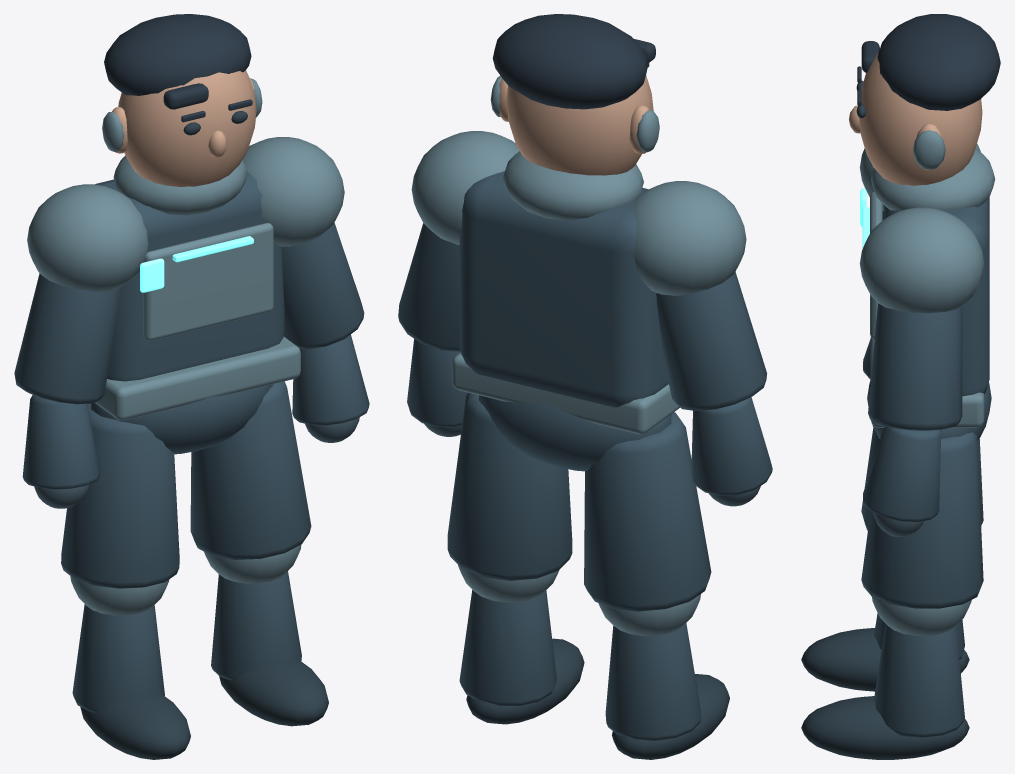
Rendered from AgentStanding.fbx.
3 views of the same model, side by side, from view 1: azimuth 30°, elevation 25°; view 2: azimuth 150°, elevation 25°; view 3: azimuth 270°, elevation 25° (orthographic). The views are drawn at different scales.
Visible parts, largest first — view 1: Coxa L.001, Coxa R.001, Jaqueta facetada.001, Placa toracica.001, Cabeca.001, Ombreira L.001, Braco L.001, Cabelo superior.001, Ombreira R.001, Canela L.001, Braco R.001, Canela R.001 (+15 smaller); view 2: Jaqueta facetada.001, Coxa L.001, Coxa R.001, Cabelo superior.001, Braco L.001, Ombreira L.001, Canela R.001, Canela L.001, Cabeca.001, Ombreira R.001, Quadril.001, Antebraco L.001 (+9 smaller); view 3: Coxa R.001, Braco R.001, Ombreira R.001, Cabelo superior.001, Canela R.001, Cabeca.001, Antebraco R.001, Bota R.001, Jaqueta facetada.001, Gola.001, Bota L.001, Joelho R.001 (+9 smaller).
Part boxes in pixels (<box>): Coxa L.001: <box>61,403,179,588</box>; Coxa R.001: <box>190,381,311,559</box>; Jaqueta facetada.001: <box>95,171,284,381</box>; Placa toracica.001: <box>143,223,273,340</box>; Cabeca.001: <box>118,70,256,187</box>; Ombreira L.001: <box>27,184,148,291</box>; Braco L.001: <box>14,273,120,404</box>; Cabelo superior.001: <box>104,14,251,95</box>; Ombreira R.001: <box>243,137,344,246</box>; Canela L.001: <box>72,604,164,712</box>; Braco R.001: <box>281,223,364,349</box>; Canela R.001: <box>211,571,301,680</box>; Jaqueta facetada.001: <box>459,171,668,407</box>; Coxa L.001: <box>584,412,711,611</box>; Coxa R.001: <box>447,392,572,580</box>; Cabelo superior.001: <box>492,14,648,109</box>; Braco L.001: <box>656,272,767,410</box>; Ombreira L.001: <box>634,181,746,295</box>; Canela R.001: <box>459,590,556,705</box>; Canela L.001: <box>605,623,701,740</box>; Cabeca.001: <box>506,75,653,175</box>; Ombreira R.001: <box>411,131,519,244</box>; Quadril.001: <box>478,395,671,471</box>; Antebraco L.001: <box>691,397,772,495</box>; Coxa R.001: <box>861,430,983,608</box>; Braco R.001: <box>868,303,962,430</box>; Ombreira R.001: <box>859,207,984,312</box>; Cabelo superior.001: <box>877,14,1000,110</box>; Canela R.001: <box>874,624,964,737</box>; Cabeca.001: <box>859,53,982,185</box>; Antebraco R.001: <box>863,426,941,521</box>; Bota R.001: <box>801,696,969,759</box>; Jaqueta facetada.001: <box>883,197,989,396</box>; Gola.001: <box>871,148,995,210</box>; Bota L.001: <box>801,628,969,691</box>; Joelho R.001: <box>871,596,971,635</box>.
Size of the model in its own units: 107 by 209 by 54.5.
